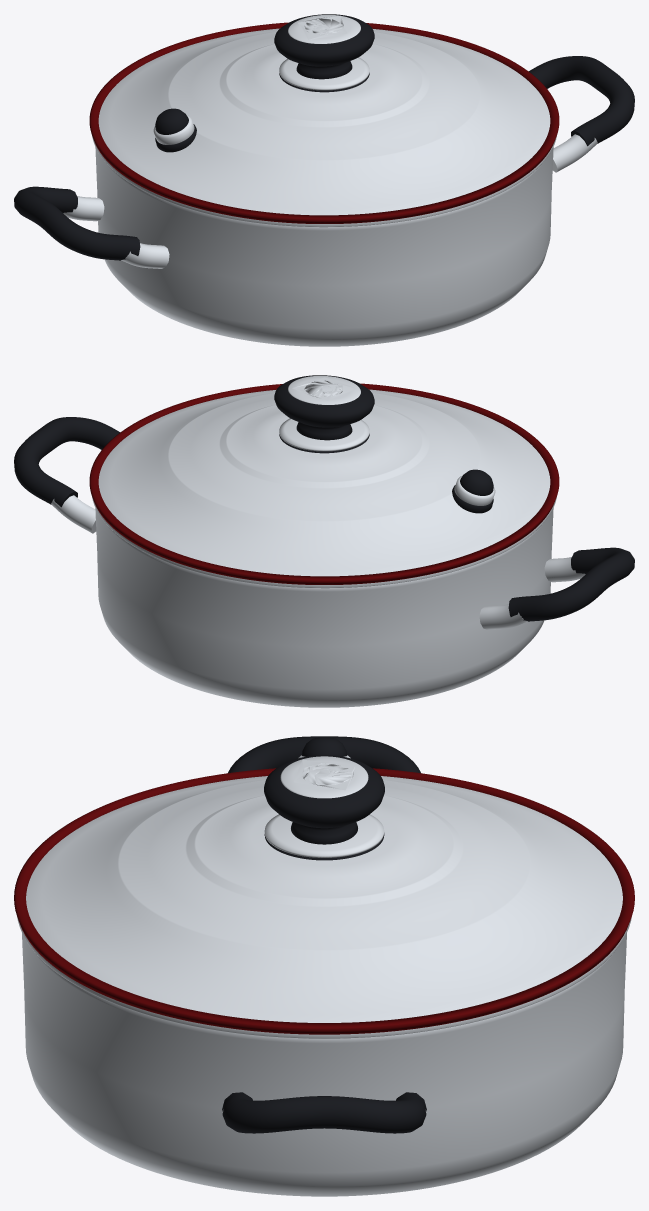
File: olla-paellera-10-pulgadas.glb
The picture shows the model from 3 angles, top to bottom: view 1: azimuth 30°, elevation 25°; view 2: azimuth 150°, elevation 25°; view 3: azimuth 270°, elevation 25°; orthographic projection. The views are drawn at different scales.
Visible parts, largest first — view 1: Tapa de acero con aros, Cuerpo con interior, Aro rojo de la tapa, Asa negra -1, Asa negra 1, NOVEL · Pomo cerrado redondeado, NOVEL · Base cromada del pomo, NOVEL · Placa superior del pomo, Soporte metálico.002, Soporte metálico, NOVEL · Emblema original en relieve bajo, Soporte metálico.001 (+2 smaller); view 2: Tapa de acero con aros, Cuerpo con interior, Aro rojo de la tapa, Asa negra -1, Asa negra 1, NOVEL · Pomo cerrado redondeado, NOVEL · Base cromada del pomo, NOVEL · Placa superior del pomo, Soporte metálico.003, Soporte metálico.001, NOVEL · Emblema original en relieve bajo, Soporte metálico (+2 smaller); view 3: Tapa de acero con aros, Cuerpo con interior, Aro rojo de la tapa, Asa negra 1, NOVEL · Pomo cerrado redondeado, Asa negra -1, NOVEL · Base cromada del pomo, NOVEL · Placa superior del pomo, NOVEL · Emblema original en relieve bajo, NOVEL · Válvula capuchón negro.
Boxes of the visible parts, x1,y1,x2,y2 form: Tapa de acero con aros: (92, 28, 556, 227); Cuerpo con interior: (95, 147, 553, 346); Aro rojo de la tapa: (89, 22, 559, 223); Asa negra -1: (14, 186, 140, 260); Asa negra 1: (529, 56, 634, 146); NOVEL · Pomo cerrado redondeado: (274, 14, 374, 79); NOVEL · Base cromada del pomo: (279, 57, 369, 90); NOVEL · Placa superior del pomo: (288, 15, 360, 43); Soporte metálico.002: (552, 134, 597, 172); Soporte metálico: (121, 243, 169, 268); NOVEL · Emblema original en relieve bajo: (298, 15, 347, 39); Soporte metálico.001: (63, 196, 104, 221); Tapa de acero con aros: (92, 389, 556, 588); Cuerpo con interior: (95, 508, 553, 707); Aro rojo de la tapa: (89, 383, 559, 584); Asa negra -1: (508, 547, 634, 621); Asa negra 1: (14, 417, 119, 507); NOVEL · Pomo cerrado redondeado: (274, 375, 374, 440); NOVEL · Base cromada del pomo: (279, 418, 369, 451); NOVEL · Placa superior del pomo: (288, 376, 360, 404); Soporte metálico.003: (51, 495, 96, 533); Soporte metálico.001: (479, 604, 527, 629); NOVEL · Emblema original en relieve bajo: (292, 377, 356, 400); Soporte metálico: (544, 557, 585, 582); Tapa de acero con aros: (17, 776, 631, 1038); Cuerpo con interior: (22, 933, 626, 1196); Aro rojo de la tapa: (14, 768, 634, 1034); Asa negra 1: (222, 1092, 426, 1133); NOVEL · Pomo cerrado redondeado: (264, 755, 384, 844); Asa negra -1: (228, 736, 420, 773); NOVEL · Base cromada del pomo: (264, 814, 384, 857); NOVEL · Placa superior del pomo: (280, 756, 368, 798); NOVEL · Emblema original en relieve bajo: (294, 759, 355, 790); NOVEL · Válvula capuchón negro: (301, 737, 347, 756).
Size of the model in its own units: 0.3701 by 0.1432 by 0.26.
